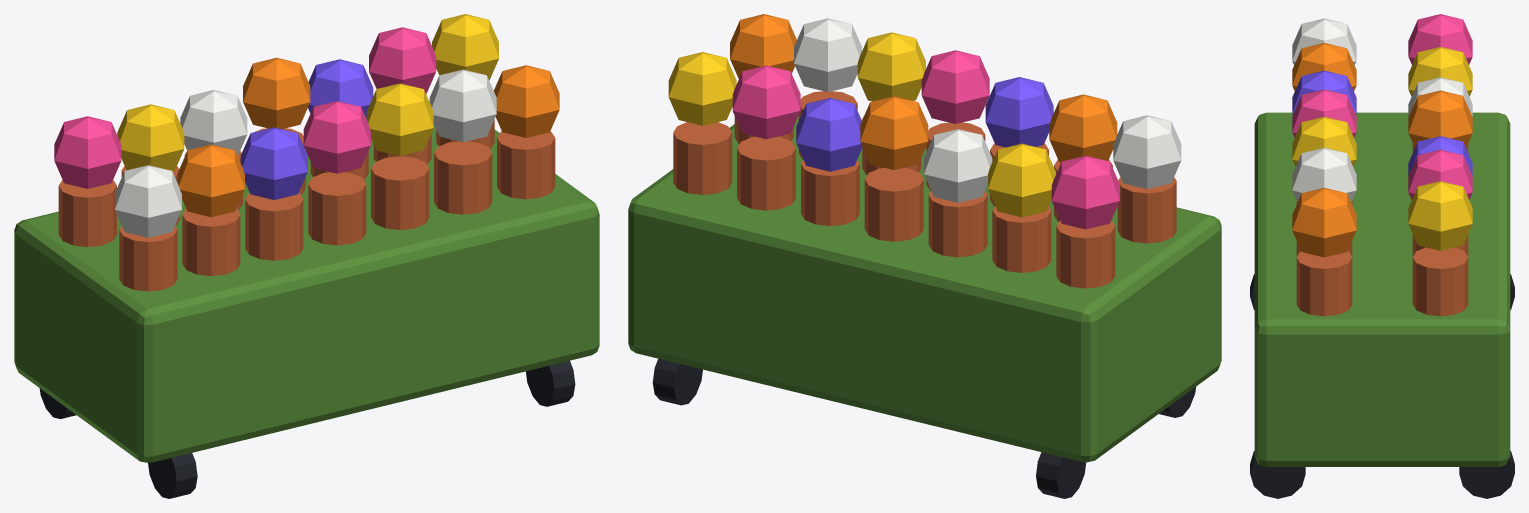
File: flower-cart.glb
3 views of the same model, side by side, from view 1: azimuth 30°, elevation 25°; view 2: azimuth 150°, elevation 25°; view 3: azimuth 270°, elevation 25° (orthographic). The views are drawn at different scales.
Visible parts, largest first — view 1: flower-cart; view 2: flower-cart; view 3: flower-cart.
Part boxes in pixels (<box>): flower-cart: <box>14,14,599,498</box>; flower-cart: <box>628,14,1221,498</box>; flower-cart: <box>1250,14,1514,498</box>.
Bounding box in the file's own units: 2.2 × 1.51 × 1.14.
